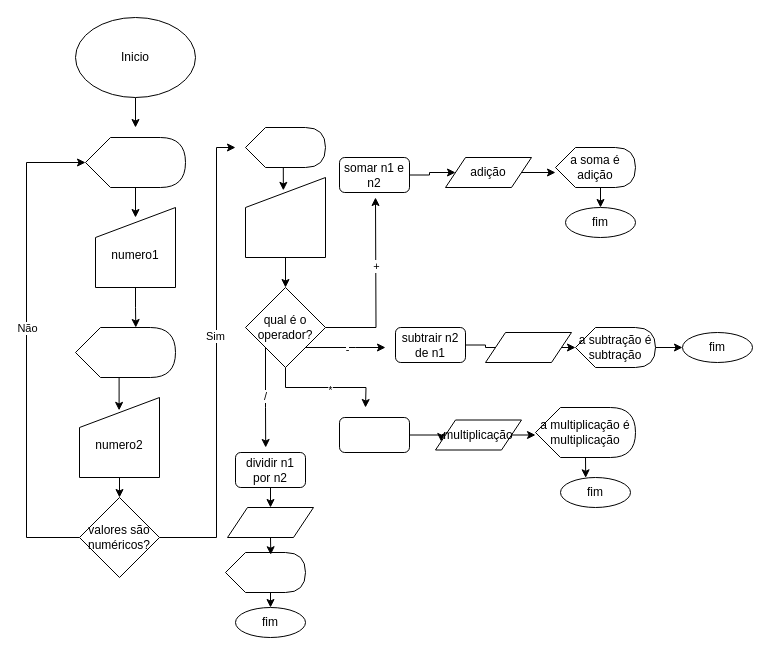
This 770x655 diagram has some shape labels left out. Here are the shapes that lost their labels. From the top down, the box of each, then its label:
(84, 136, 186, 188): Informe um número
(244, 126, 326, 168): informe a operação
(244, 176, 326, 258): operador
(74, 326, 176, 378): informe outro número
(484, 332, 572, 362): subtração
(338, 416, 410, 452): multiplicar n1 e n2
(226, 506, 314, 538): divisao
(224, 552, 306, 592): a divisão é divisão
